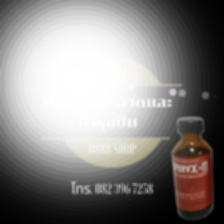book: (167, 115, 216, 223)
